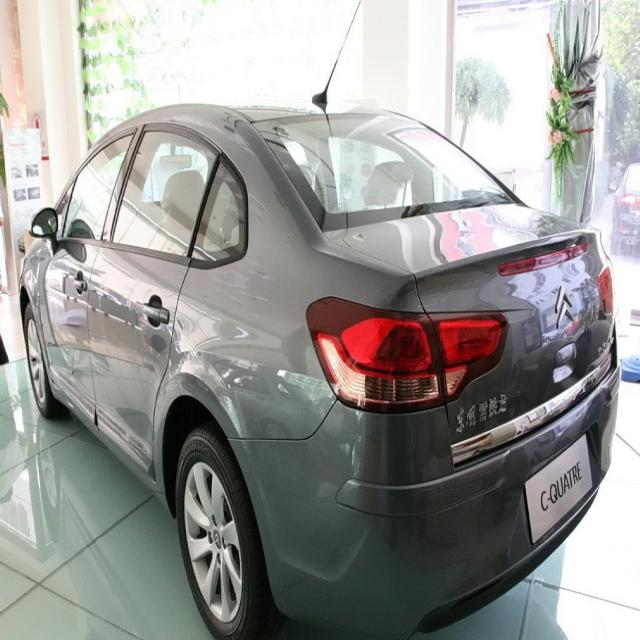back_glass: (250, 110, 508, 224)
back_left_side_light: (304, 293, 511, 417)
back_right_side_light: (596, 253, 616, 330)
door: (94, 146, 227, 430)
front_left_side_door: (32, 117, 148, 439)
front_left_side_mirror: (30, 201, 61, 251)
rear_bumper: (218, 336, 621, 637)
wheel: (172, 424, 270, 638), (19, 303, 71, 419)
